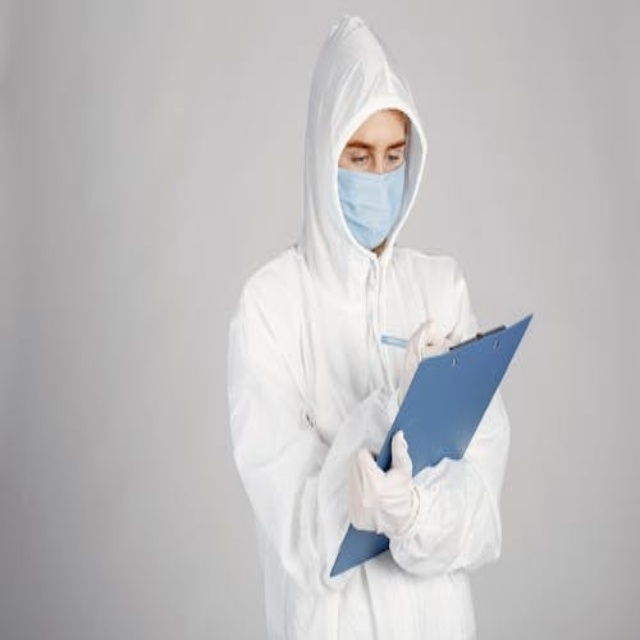Guantes: (348, 427, 419, 542), (389, 315, 452, 413)
Mascara: (336, 158, 407, 248)
Sin_gafas: (346, 133, 408, 173)
